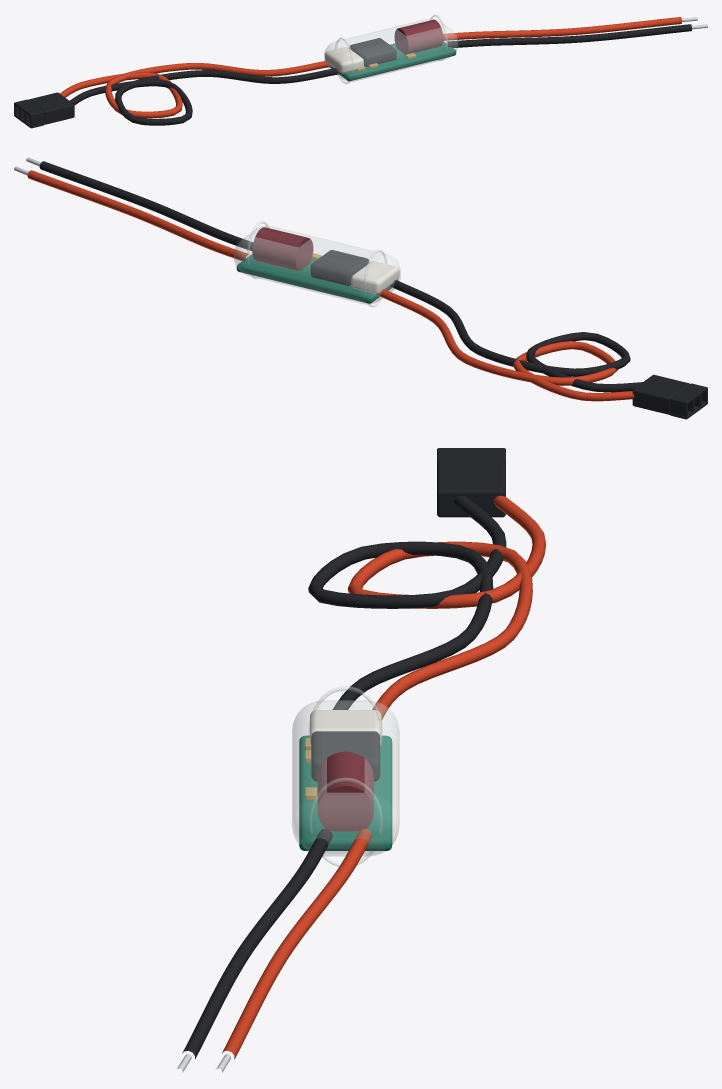
Rendered from components-29.glb.
The picture shows the model from 3 angles, top to bottom: view 1: azimuth 30°, elevation 25°; view 2: azimuth 150°, elevation 25°; view 3: azimuth 270°, elevation 25°; orthographic projection. The views are drawn at different scales.
Visible parts, largest first — view 1: output, wrap, converter, input, plug; view 2: wrap, output, converter, input, plug; view 3: output, wrap, converter, input, plug.
Part boxes in pixels (<box>): output: <box>60,61,341,125</box>; wrap: <box>324,15,457,83</box>; converter: <box>325,19,456,81</box>; input: <box>443,17,707,47</box>; plug: <box>14,92,74,128</box>; wrap: <box>234,221,400,307</box>; output: <box>376,280,642,401</box>; converter: <box>236,227,399,303</box>; input: <box>14,157,252,260</box>; plug: <box>632,374,707,419</box>; output: <box>308,495,545,719</box>; wrap: <box>292,686,399,866</box>; converter: <box>299,710,392,850</box>; input: <box>177,828,371,1072</box>; plug: <box>437,448,505,517</box>.
Bounding box in the file's own units: 4.73 × 0.332 × 1.24.
